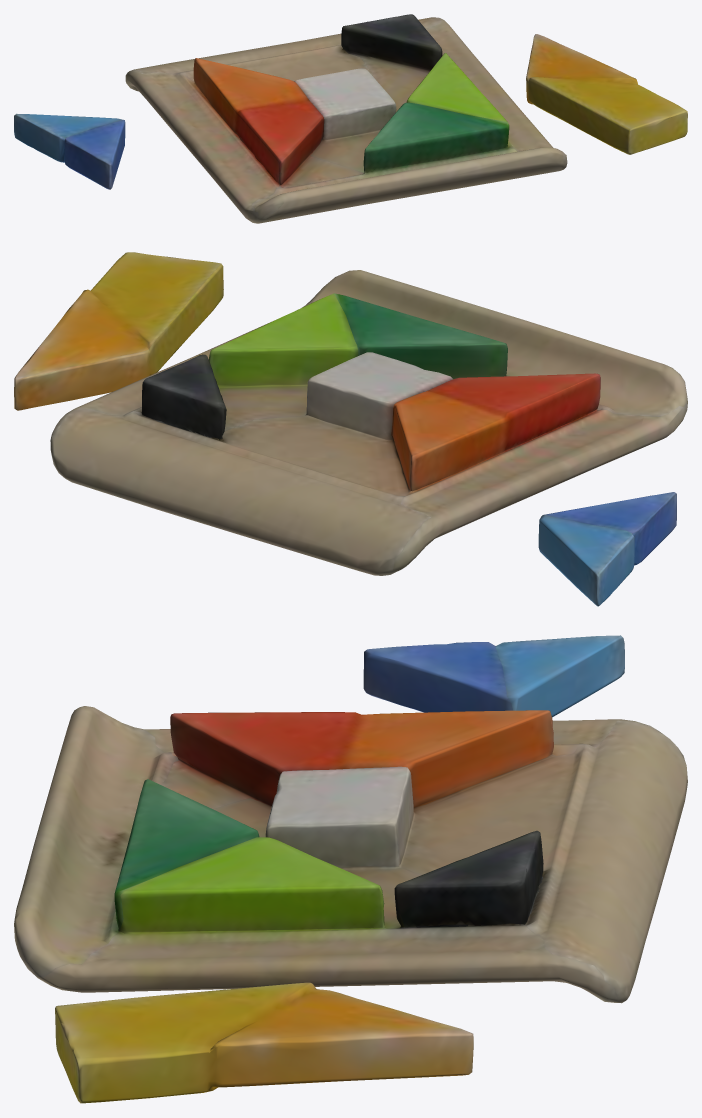
Rendered from gso_twisted_puzzle_twb4ayftu8q.glb.
The picture shows the model from 3 angles, top to bottom: view 1: azimuth 30°, elevation 25°; view 2: azimuth 150°, elevation 25°; view 3: azimuth 270°, elevation 25°; orthographic projection. The views are drawn at different scales.
Parts seen in each view (by area): view 1: z-up-to-y-up; view 2: z-up-to-y-up; view 3: z-up-to-y-up.
Boxes of the visible parts, x1,y1,x2,y2 form: z-up-to-y-up: (14, 14, 687, 223); z-up-to-y-up: (14, 252, 687, 606); z-up-to-y-up: (14, 635, 687, 1103).
Size of the model in its own units: 0.3025 by 0.0354 by 0.204.
1 material, 1 textured.
